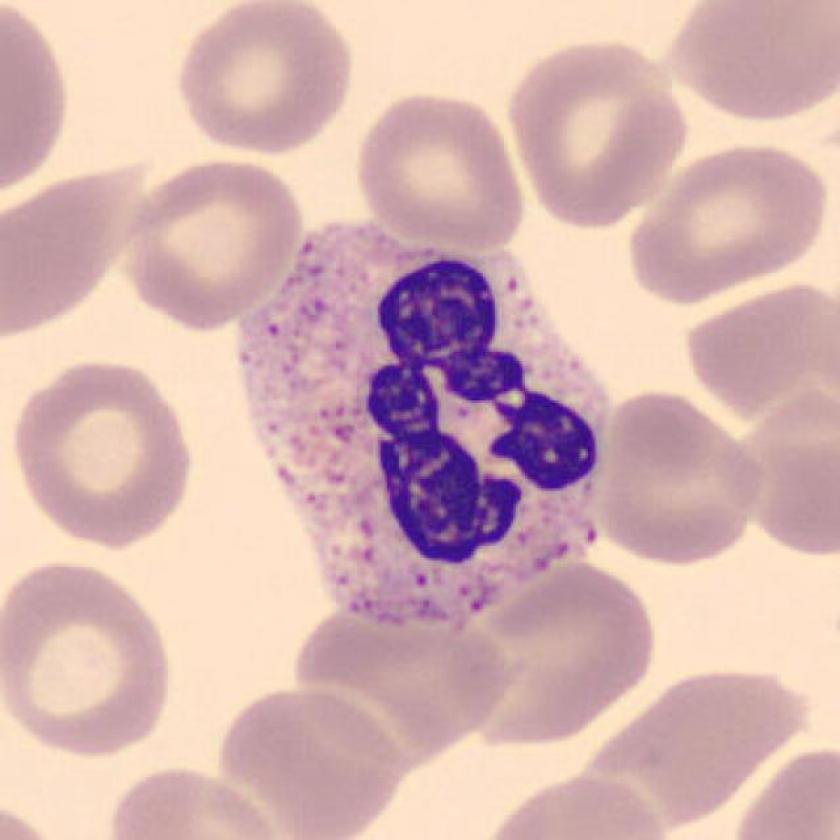neutrophil: (239, 223, 610, 630)
